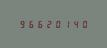four: (71, 20, 79, 28)
nine: (17, 20, 25, 28)
one: (62, 20, 70, 28)
six: (26, 20, 34, 28), (35, 20, 43, 28)
two: (44, 20, 52, 28)
zero: (53, 20, 61, 28), (80, 20, 88, 28)
